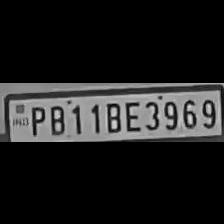1: (67, 102, 85, 134), (86, 100, 102, 134)
3: (141, 97, 158, 129)
6: (180, 95, 196, 127)
8: (47, 101, 66, 135)
9: (160, 96, 178, 128), (199, 95, 217, 127)
B: (102, 98, 122, 132)
E: (123, 97, 141, 131)
P: (27, 102, 45, 136)
